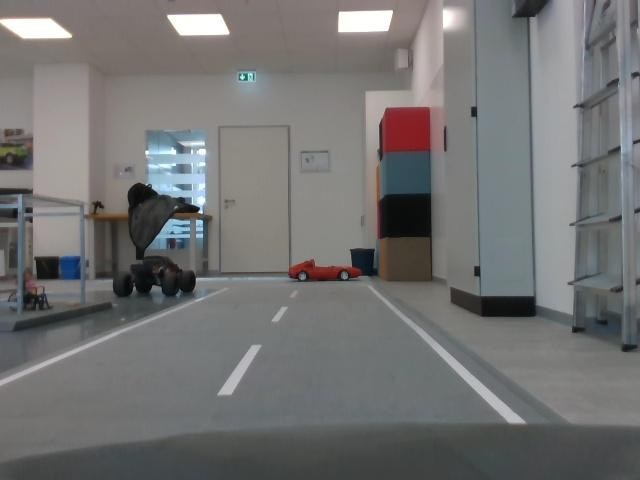car: (111, 255, 201, 300), (286, 256, 362, 286)
person: (7, 264, 63, 319)
